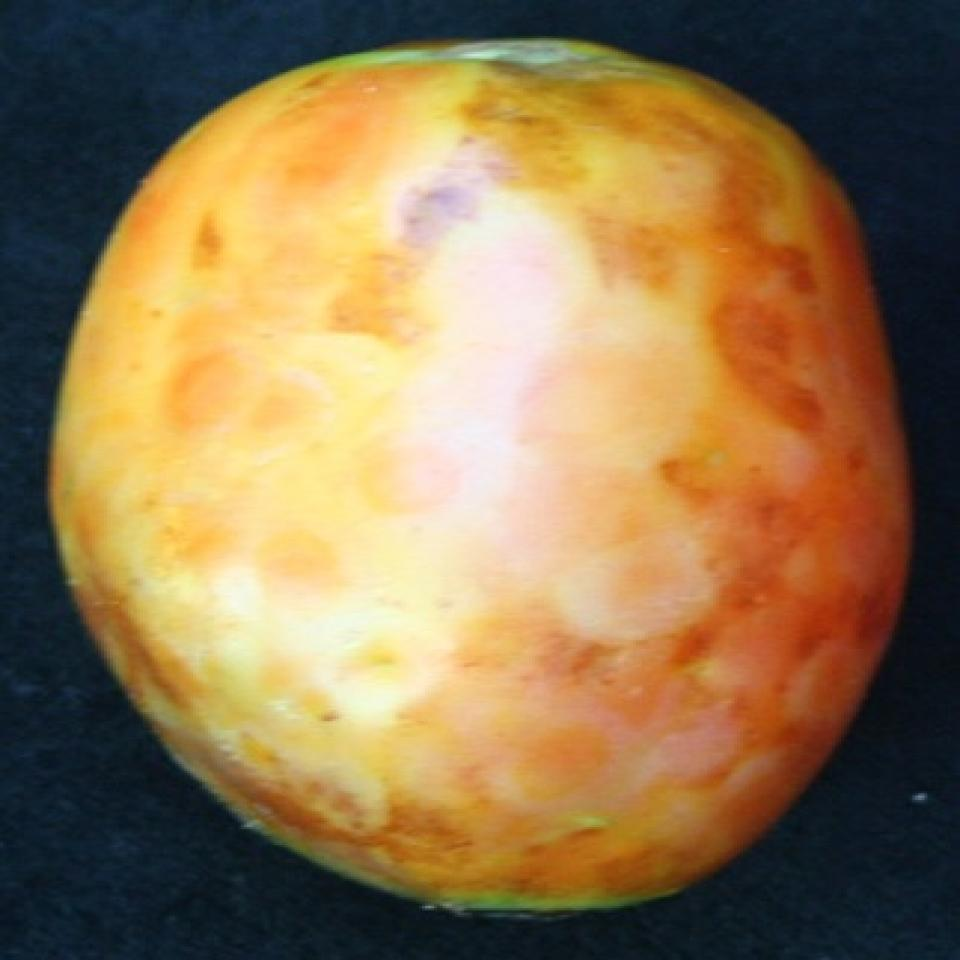Spotted wilt Virus: (52, 29, 917, 913)
